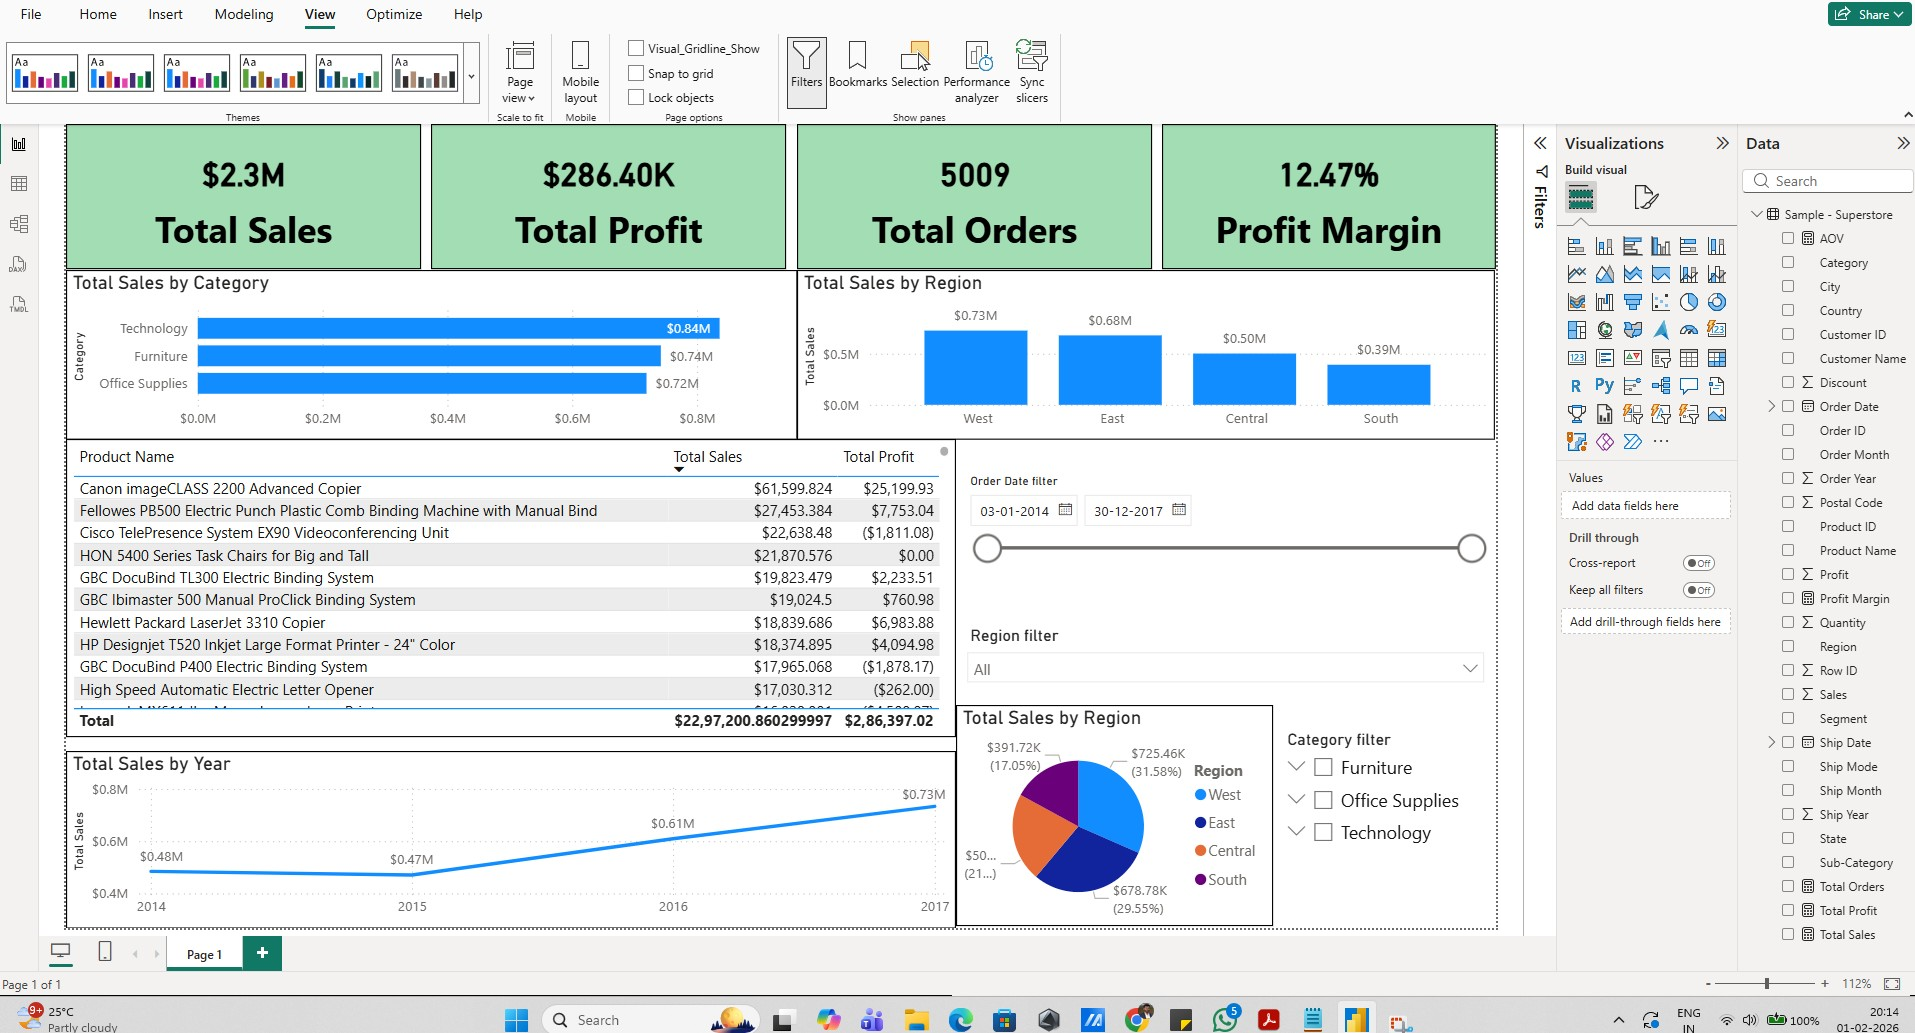

The page's visual inventory and layout, read from the dashboard file:
{"tool":"powerbi","page":{"name":"Page 1","canvas":[1280,720],"ordinal":0},"visuals":[{"type":"card","title":"Total Sales","fields":{"Values":["Sample - Superstore.Total Sales"]},"box":[0,0,318.1,130.3],"z":0},{"type":"card","fields":{"Values":["Sample - Superstore.Total Profit"]},"box":[326.8,0,318.1,130.3],"z":1000},{"type":"card","fields":{"Values":["Sample - Superstore.Total Orders"]},"box":[654.6,0,318.1,130.3],"z":2000},{"type":"card","fields":{"Values":["Sample - Superstore.Profit Margin"]},"box":[981.4,0,298.6,130.3],"z":3000},{"type":"lineChart","fields":{"Category":["Sample - Superstore.Order Date.Variation.Date Hierarchy.Year","Sample - Superstore.Order Date.Variation.Date Hierarchy.Quarter","Sample - Superstore.Order Date.Variation.Date Hierarchy.Month","Sample - Superstore.Order Date.Variation.Date Hierarchy.Day"],"Y":["Sample - Superstore.Total Sales"]},"box":[0,561.5,797,158.5],"z":4000},{"type":"clusteredBarChart","fields":{"Category":["Sample - Superstore.Category"],"Y":["Sample - Superstore.Total Sales"]},"box":[0,130.3,654.6,151.7],"z":5000},{"type":"columnChart","fields":{"Y":["Sample - Superstore.Total Sales"],"Category":["Sample - Superstore.Region"]},"box":[654.6,130.3,625.4,151.7],"z":6000},{"type":"tableEx","fields":{"Values":["Sample - Superstore.Product Name","Sample - Superstore.Total Sales","Sample - Superstore.Total Profit"]},"box":[0,282.1,797,266.9],"z":7000},{"type":"slicer","fields":{"Values":["Sample - Superstore.Order Date"]},"box":[796.6,308.3,483.4,103.1],"z":8000},{"type":"slicer","fields":{"Values":["Sample - Superstore.Region"]},"box":[796.6,445.5,483.4,74.9],"z":9000},{"type":"slicer","fields":{"Values":["Sample - Superstore.Category","Sample - Superstore.Sub-Category"]},"box":[1080.6,537.9,199.4,181.9],"z":10000},{"type":"pieChart","fields":{"Category":["Sample - Superstore.Region"],"Y":["Sample - Superstore.Profit Margin"]},"box":[796.6,520.4,284,198.4],"z":11000}]}

Visuals, with their boxes on the page's 1280x720 design canvas (x1, y1, x2, y2). These are canvas units, not pixel positions in the 1915x1033 screenshot, which may show the page scaled, cropped or inside an application window:
"Total Sales" card: region(0, 0, 318, 130)
card - Sample - Superstore.Total Profit: region(327, 0, 645, 130)
card - Sample - Superstore.Total Orders: region(655, 0, 973, 130)
card - Sample - Superstore.Profit Margin: region(981, 0, 1280, 130)
lineChart - Sample - Superstore.Order Date.Variation.Date Hierarchy.Year x Sample - Superstore.Order Date.Variation.Date Hierarchy.Quarter: region(0, 562, 797, 720)
clusteredBarChart - Sample - Superstore.Category x Sample - Superstore.Total Sales: region(0, 130, 655, 282)
columnChart - Sample - Superstore.Total Sales x Sample - Superstore.Region: region(655, 130, 1280, 282)
tableEx - Sample - Superstore.Product Name x Sample - Superstore.Total Sales: region(0, 282, 797, 549)
slicer - Sample - Superstore.Order Date: region(797, 308, 1280, 411)
slicer - Sample - Superstore.Region: region(797, 446, 1280, 520)
slicer - Sample - Superstore.Category x Sample - Superstore.Sub-Category: region(1081, 538, 1280, 720)
pieChart - Sample - Superstore.Region x Sample - Superstore.Profit Margin: region(797, 520, 1081, 719)
